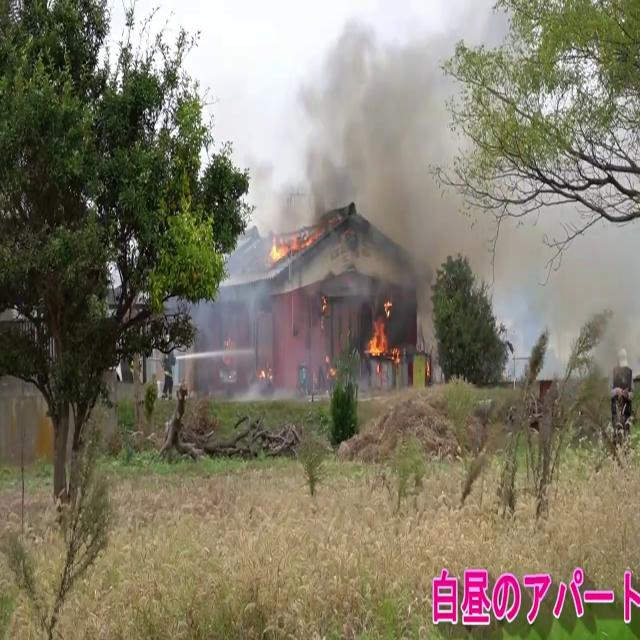Fire: (265, 222, 321, 266), (364, 298, 398, 367)
Smoke: (262, 3, 490, 295)
